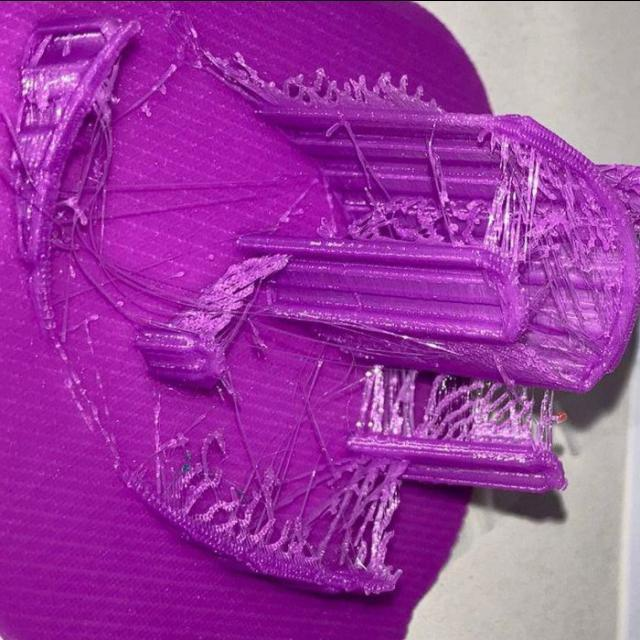Stringing: (458, 380, 547, 444), (489, 158, 542, 261), (364, 376, 450, 438), (356, 470, 399, 572), (68, 158, 107, 266), (246, 509, 310, 561), (200, 488, 244, 533)
